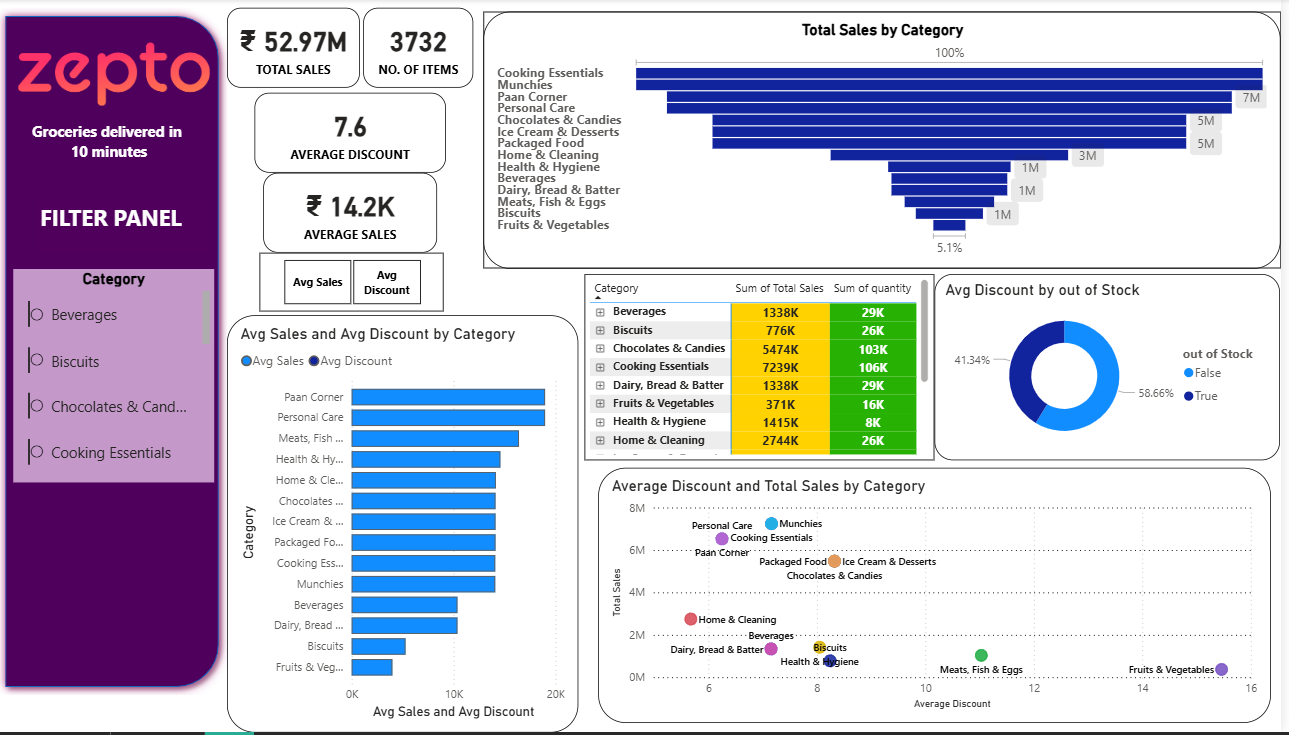

What the dashboard file says about the page in this screenshot:
{"tool":"powerbi","page":{"name":"Page 1","canvas":[1400,800],"ordinal":0},"visuals":[{"type":"shape","box":[0,9.5,250.9,749.8],"z":0},{"type":"image","box":[22.5,36,208.6,93.1],"z":1000},{"type":"textbox","box":[12.3,128.2,219.5,61.4],"z":2000},{"type":"card","fields":{"Values":["Sum(zepto_dataset (2).discountedSellingPrice)"]},"box":[250.9,9.5,144.5,87.3],"z":3000},{"type":"card","fields":{"Values":["zepto_dataset (2).Avg Sales"]},"box":[290.4,189.5,189.5,87.3],"z":4000},{"type":"card","fields":{"Values":["CountNonNull(zepto_dataset (2).quantity)"]},"box":[399.5,9.5,120,87.3],"z":5000},{"type":"card","fields":{"Values":["zepto_dataset (2).Avg Discount"]},"box":[280.8,102.3,208.6,87.3],"z":6000},{"type":"barChart","fields":{"Y":["zepto_dataset (2).Avg Sales","zepto_dataset (2).Avg Discount"],"Category":["zepto_dataset (2).Category"]},"box":[250.9,344.9,383.1,455.4],"z":7000},{"type":"funnel","fields":{"Category":["zepto_dataset (2).Category"],"Y":["Sum(zepto_dataset (2).Total Sales)"]},"box":[530.3,13.6,869.8,280.8],"z":8000},{"type":"slicer","fields":{"Values":["Metrics 2.Metrics"]},"box":[286.3,276.8,200.4,64.1],"z":9000},{"type":"scatterChart","fields":{"X":["zepto_dataset (2).Avg Discount"],"Y":["Sum(zepto_dataset (2).Total Sales)"],"Series":["zepto_dataset (2).Category"]},"box":[655.8,511.3,733.5,278.1],"z":10000},{"type":"pivotTable","fields":{"Rows":["zepto_dataset (2).Category","zepto_dataset (2).name"],"Values":["Sum(zepto_dataset (2).Total Sales)","Sum(zepto_dataset (2).quantity)"]},"box":[640.8,299.9,381.7,203.1],"z":11000},{"type":"listSlicer","fields":{"Values":["zepto_dataset (2).Category"]},"box":[17.7,294.5,219.5,233.1],"z":12000},{"type":"textbox","box":[42.3,216.8,189.5,60],"z":13000},{"type":"donutChart","fields":{"Category":["zepto_dataset (2).outOfStock"],"Y":["zepto_dataset (2).Avg Discount"]},"box":[1023,300,377,203],"z":14000}]}

Visuals, with their boxes in screenshot pixels (x1, y1, x2, y2), scaled from the page's 1400x800 canvas onto the 1289x735 screenshot:
shape: (0, 9, 231, 698)
image: (21, 33, 213, 119)
textbox: (11, 118, 213, 174)
card - Sum(zepto_dataset (2).discountedSellingPrice): (231, 9, 364, 89)
card - zepto_dataset (2).Avg Sales: (267, 174, 442, 254)
card - CountNonNull(zepto_dataset (2).quantity): (368, 9, 478, 89)
card - zepto_dataset (2).Avg Discount: (259, 94, 451, 174)
barChart - zepto_dataset (2).Avg Sales x zepto_dataset (2).Avg Discount: (231, 317, 584, 734)
funnel - zepto_dataset (2).Category x Sum(zepto_dataset (2).Total Sales): (488, 12, 1288, 270)
slicer - Metrics 2.Metrics: (264, 254, 448, 313)
scatterChart - zepto_dataset (2).Avg Discount x Sum(zepto_dataset (2).Total Sales): (604, 470, 1279, 725)
pivotTable - zepto_dataset (2).Category x zepto_dataset (2).name: (590, 276, 941, 462)
listSlicer - zepto_dataset (2).Category: (16, 271, 218, 485)
textbox: (39, 199, 213, 254)
donutChart - zepto_dataset (2).outOfStock x zepto_dataset (2).Avg Discount: (942, 276, 1288, 462)
